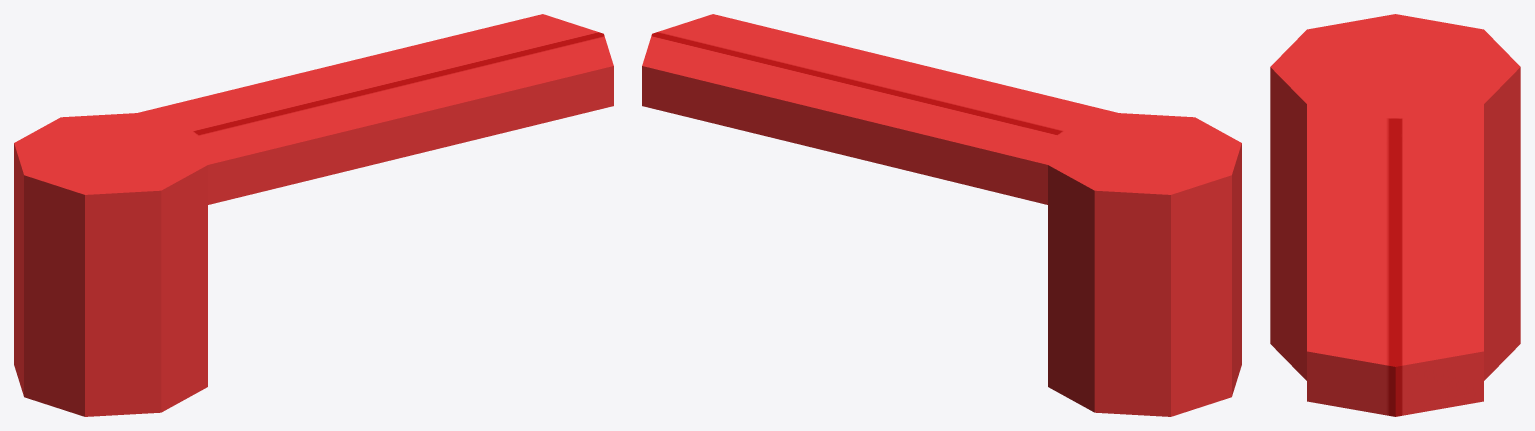
The model's file is phone1.fbx.
The picture shows the model from 3 angles, left to right: view 1: azimuth 30°, elevation 25°; view 2: azimuth 150°, elevation 25°; view 3: azimuth 270°, elevation 25°; orthographic projection. The views are drawn at different scales.
Parts seen in each view (by area): view 1: pCylinder44; view 2: pCylinder44; view 3: pCylinder44.
Boxes of the visible parts, <box> form: pCylinder44: <box>14,14,613,416</box>; pCylinder44: <box>642,14,1241,416</box>; pCylinder44: <box>1270,14,1520,416</box>.
Bounding box in the file's own units: 2.96 × 1.08 × 0.8879.
